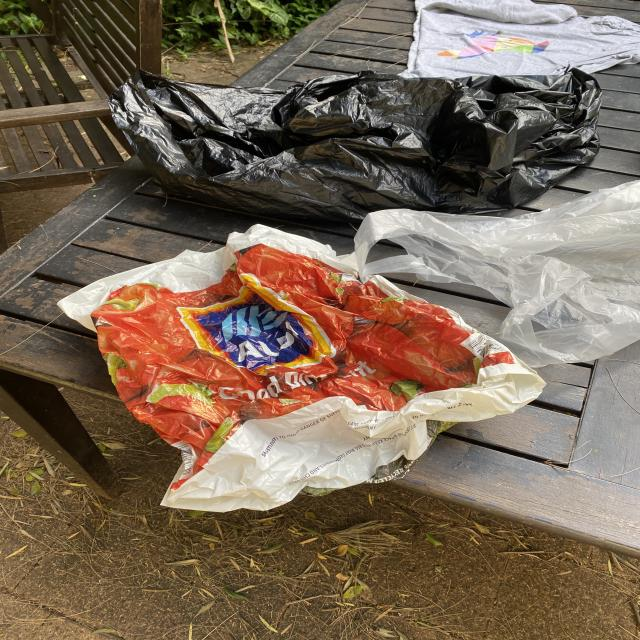bag: (54, 222, 548, 512), (108, 65, 605, 216), (354, 178, 640, 370)
cloth: (400, 0, 640, 78)
